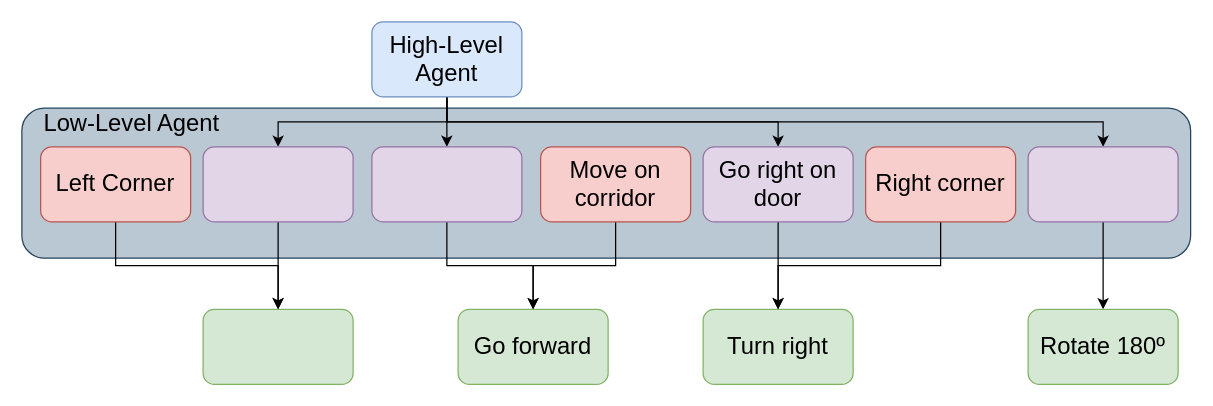
Some shapes in this 1213 by 406 pixel diagram are drawn without their labels. Each missing label, with the centre of its shape:
Go forward on door: the point at 446,184
Go left on door: the point at 277,184
Turn back: the point at 1102,184
Turn left: the point at 277,346
